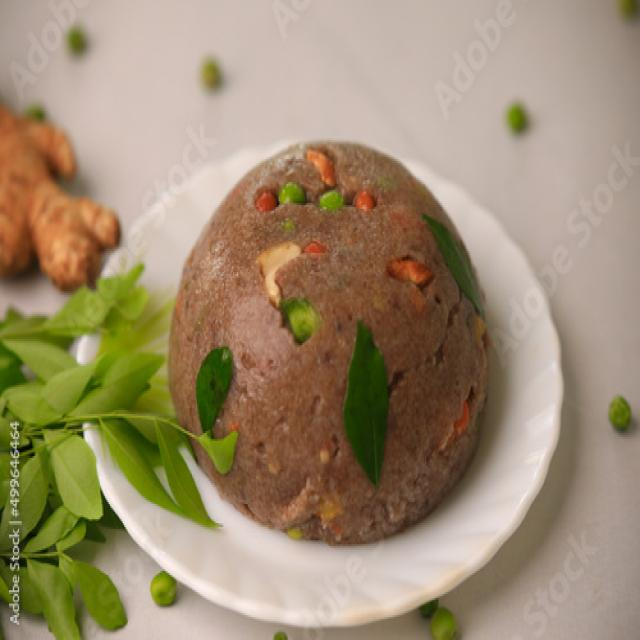UPMA: (170, 142, 492, 544)
